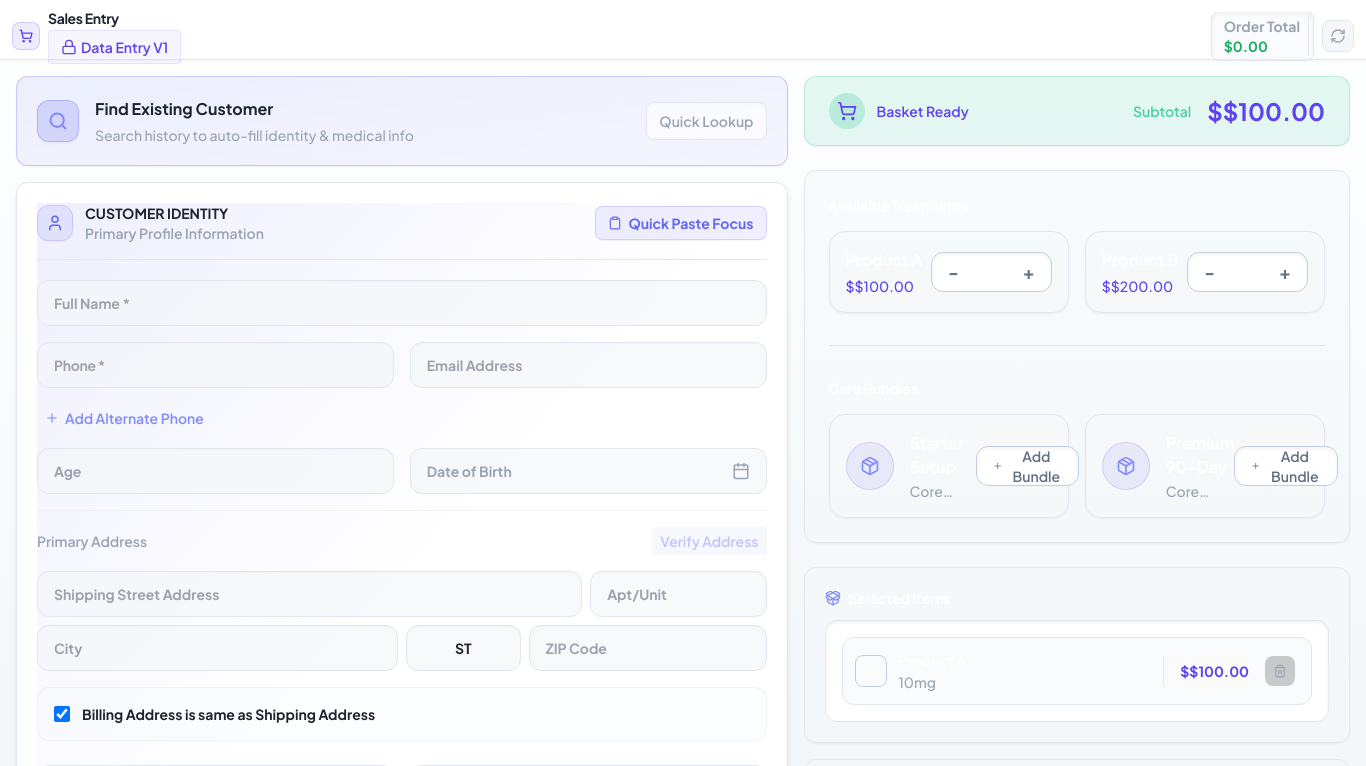
Scenario: EnrollmentForm Component › opens lookup modal when history button is clicked
Click the heading "Find Existing Customer". click: point(184, 108)
box: x1=95 y1=98 x2=273 y2=119
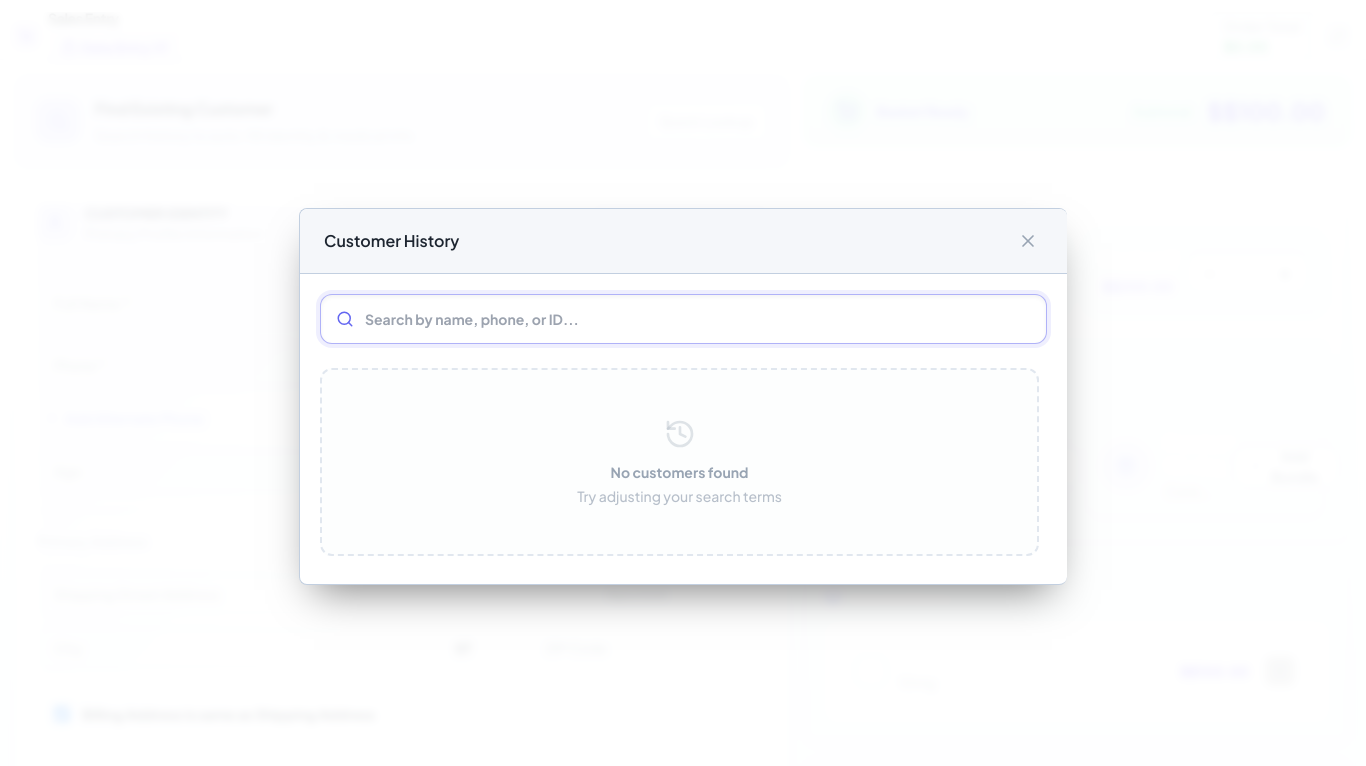
expect the field with placeholder "Search by name, phone, or ID..." is shown: met, box x1=320 y1=294 x2=1047 y2=344
